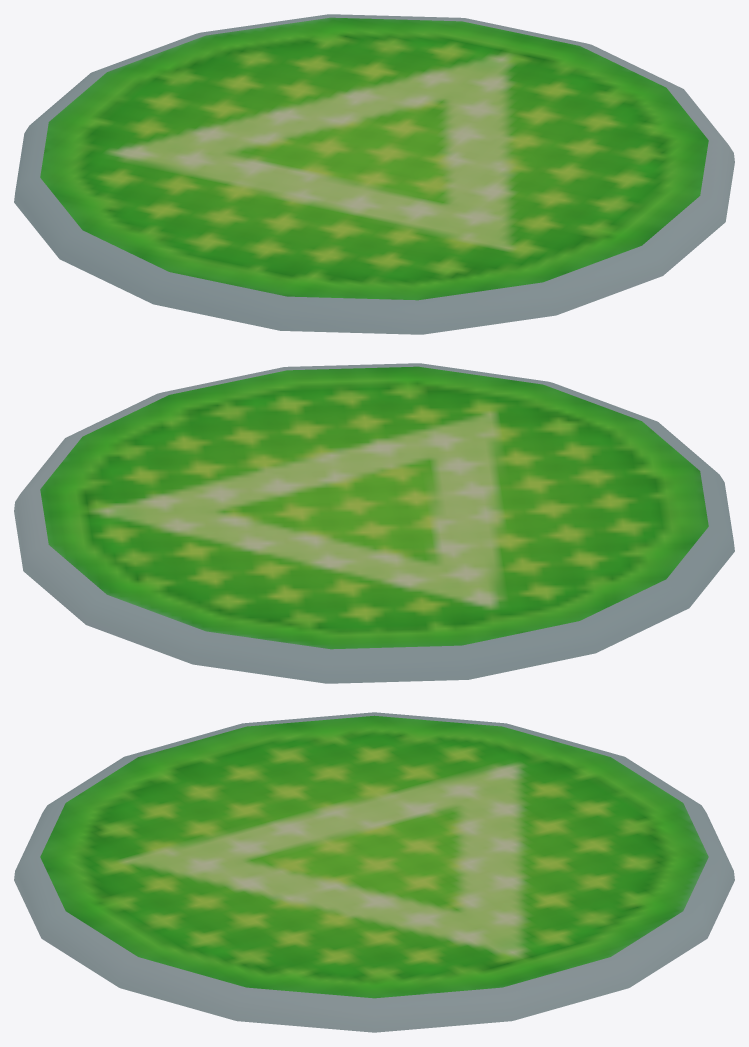
File: voting_zone03.gltf
3 views of the same model, one above another, from view 1: azimuth 30°, elevation 25°; view 2: azimuth 150°, elevation 25°; view 3: azimuth 270°, elevation 25° (orthographic).
Parts seen in each view (by area): view 1: votingzone03; view 2: votingzone03; view 3: votingzone03.
Part boxes in pixels (x1,y1,x2,y2): votingzone03: (14,14,734,334); votingzone03: (14,363,734,683); votingzone03: (14,712,734,1032).
Size of the model in its own units: 3.25 by 0.1158 by 3.25.
